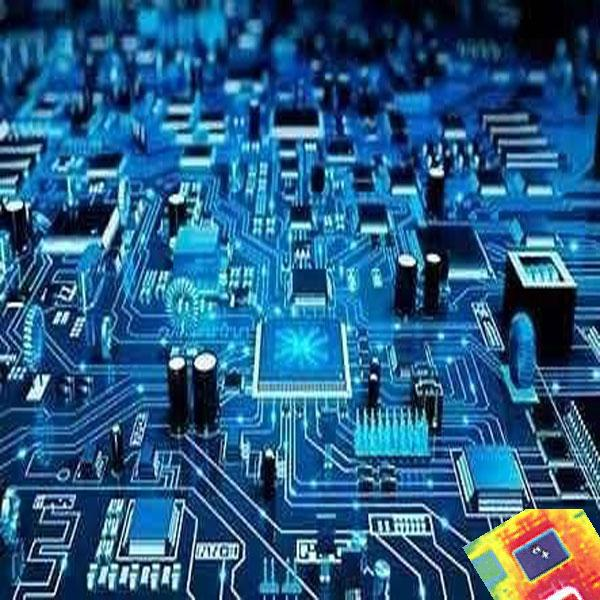componente_T: (461, 504, 600, 600)
